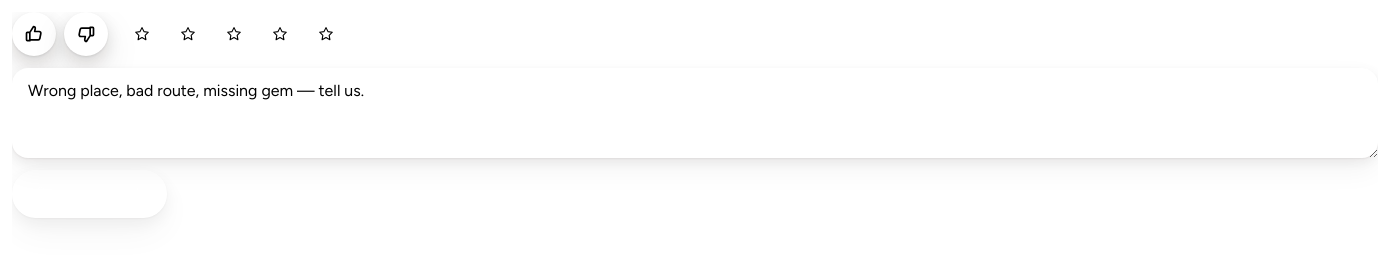
Test: TripFeedbackPanel — composer › clears the note after a successful send
Click the button named "thumbs up". click: (34, 34)
box: [12,12,56,56]
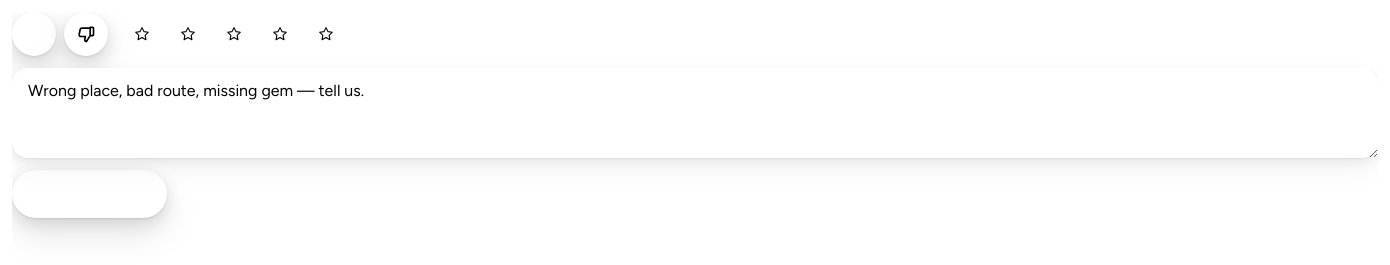
Type "loved it" into the text box. click: (695, 113)
box: [12,68,1378,158]
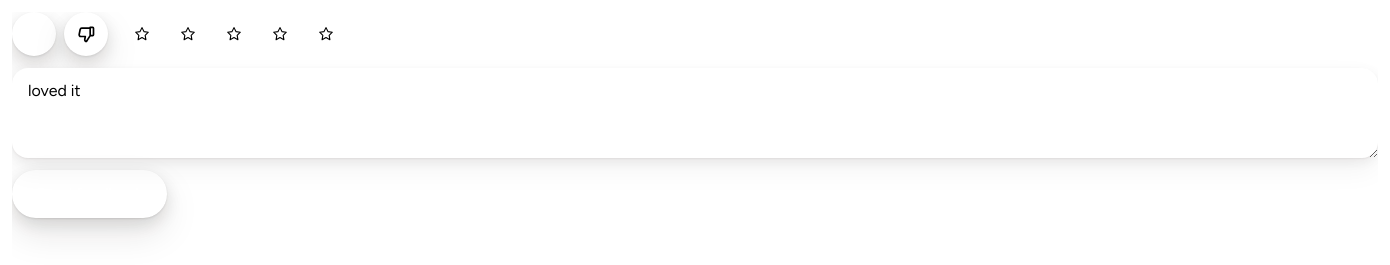
Click the button "Send feedback". click: (89, 194)
box: [12,170,167,218]
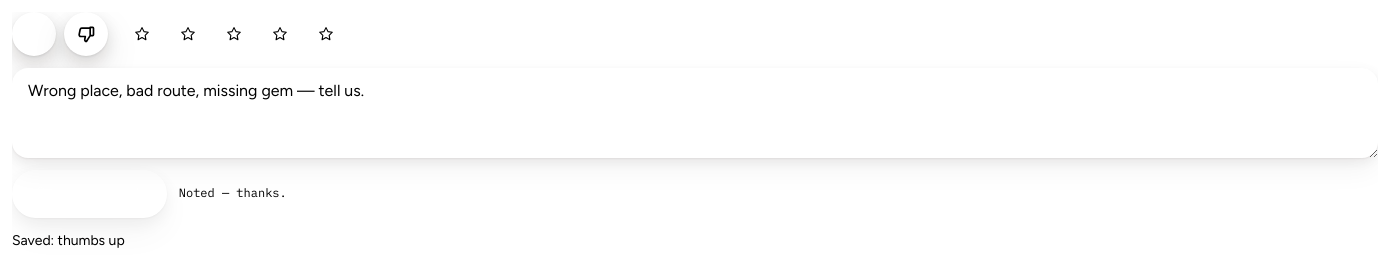
Now the text box is empty, box [12,68,1378,158]
Now the text "Noted — thanks." is shown, box [179,185,287,203]
